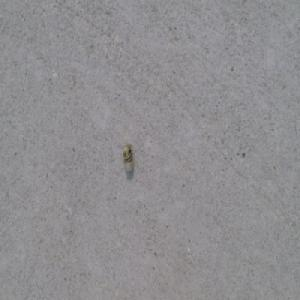BoltNutSet: (122, 143, 134, 170)
